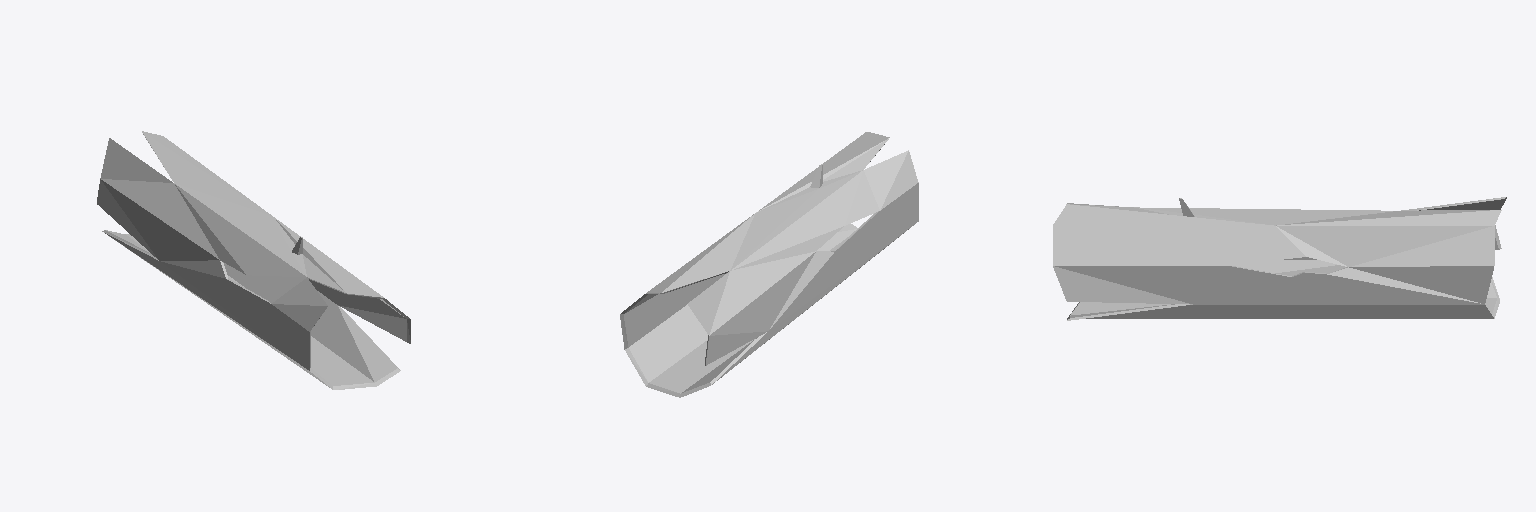
File: Trunk.obj
3 views of the same model, side by side, from view 1: azimuth 30°, elevation 25°; view 2: azimuth 150°, elevation 25°; view 3: azimuth 270°, elevation 25° (orthographic).
Visible parts, largest first — view 1: Trunk_Cylinder; view 2: Trunk_Cylinder; view 3: Trunk_Cylinder.
Part boxes in pixels (x1,y1,x2,y2): Trunk_Cylinder: (97,131,410,389); Trunk_Cylinder: (620,132,918,397); Trunk_Cylinder: (1053,197,1506,320).
Bounding box in the file's own units: 2.12 × 2.33 × 8.6.